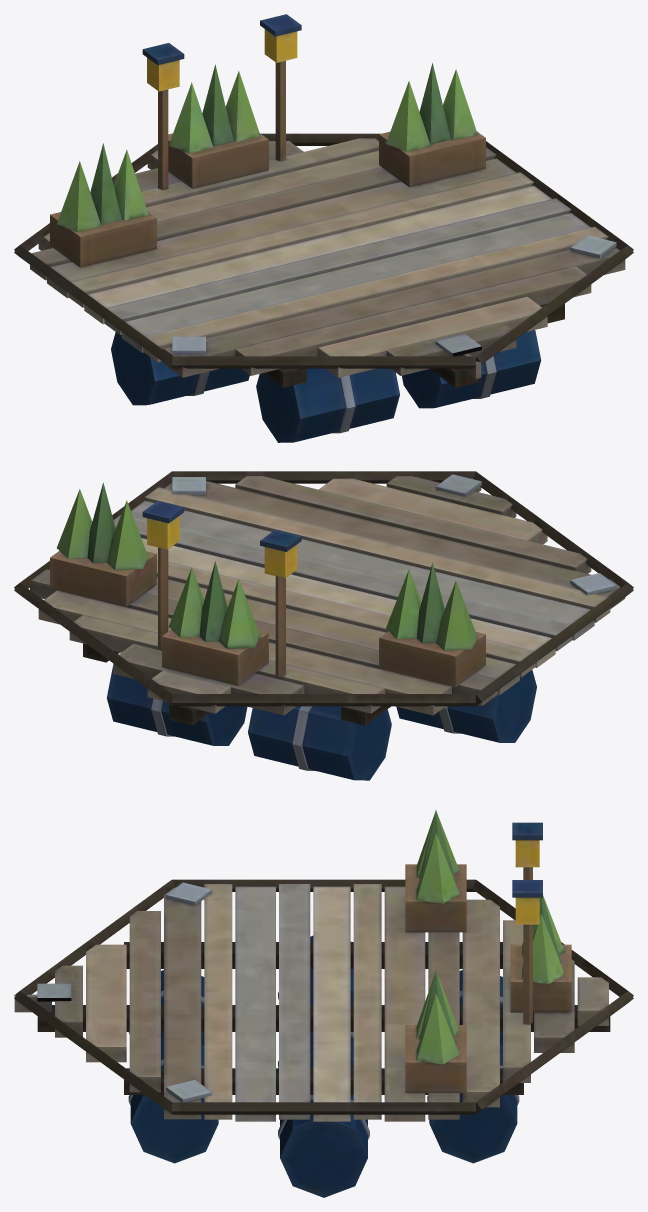
Rendered from raft-c-age10.glb.
3 renders of one model, top to bottom at view 1: azimuth 30°, elevation 25°; view 2: azimuth 150°, elevation 25°; view 3: azimuth 270°, elevation 25°, orthographic.
Visible parts, largest first — view 1: raft-c-age10; view 2: raft-c-age10; view 3: raft-c-age10.
Boxes of the visible parts, <box> form: raft-c-age10: <box>14,14,633,442</box>; raft-c-age10: <box>14,471,633,780</box>; raft-c-age10: <box>14,810,633,1197</box>.
Bounding box in the file's own units: 1.59 × 0.809 × 1.83.
1 material, 1 textured.
